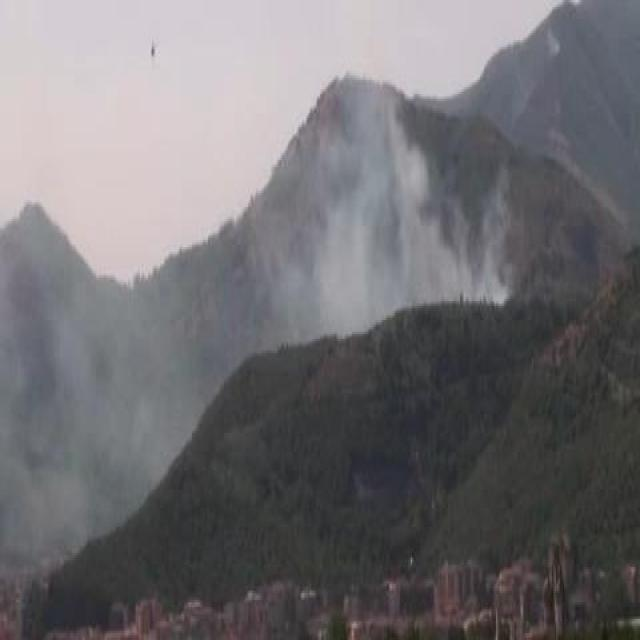Smoke: (281, 99, 498, 320), (37, 302, 182, 502)
